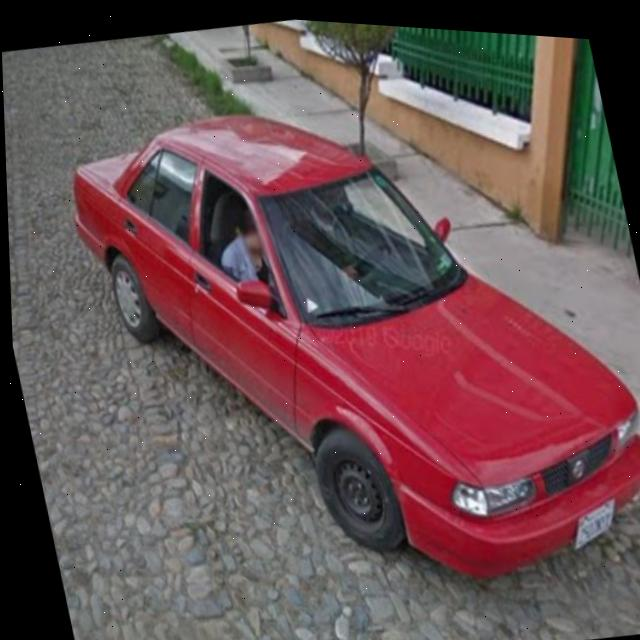vehicle: (59, 49, 640, 604)
